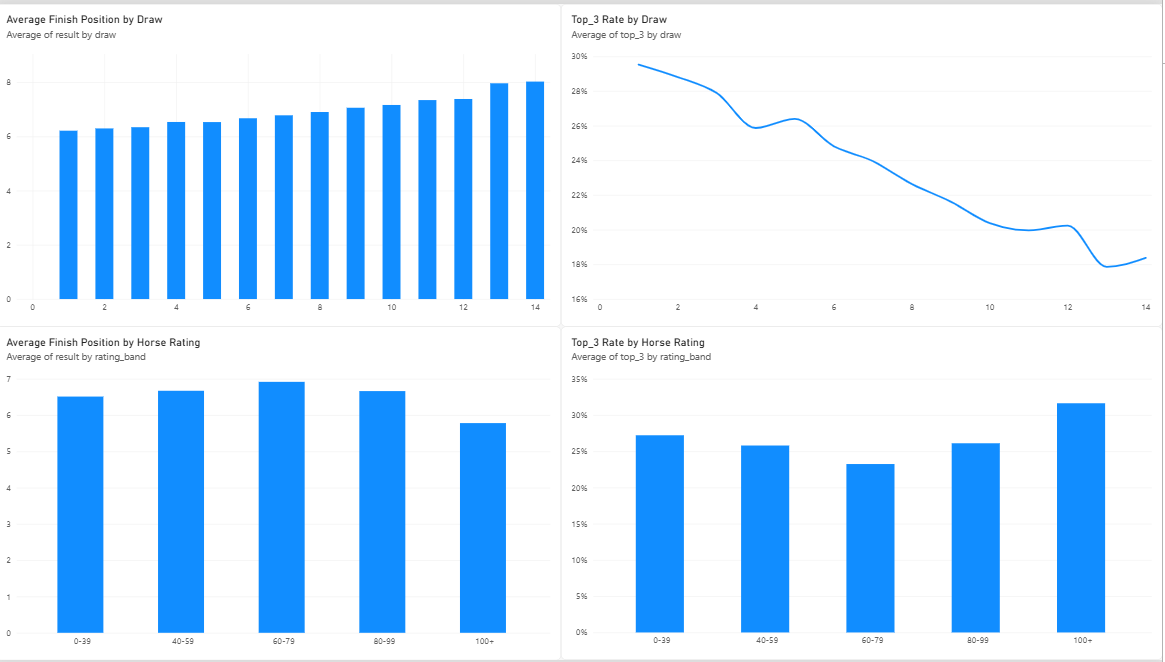

This screenshot's page, from the dashboard's own definition file:
{"tool":"powerbi","page":{"name":"Horse Performance","canvas":[1920,1080],"ordinal":1},"visuals":[{"type":"clusteredColumnChart","title":"Average Finish Position by Draw","fields":{"Category":["powerbi_data.draw"],"Y":["Avg(powerbi_data.result)"]},"box":[0,0,930.4,531],"z":0},{"type":"lineChart","title":"Top_3 Rate by Draw","fields":{"Category":["powerbi_data.draw"],"Y":["Avg(powerbi_data.top_3)"]},"box":[930.4,0,990,531],"z":1000},{"type":"clusteredColumnChart","title":"Average Finish Position by Horse Rating","fields":{"Category":["powerbi_data.rating_band"],"Y":["Avg(powerbi_data.result)"]},"box":[0,531,930.4,549.6],"z":2000},{"type":"clusteredColumnChart","title":"Top_3 Rate by Horse Rating","fields":{"Category":["powerbi_data.rating_band"],"Y":["Avg(powerbi_data.top_3)"]},"box":[930,531,990,549],"z":3000}]}

Visuals, with their boxes in screenshot pixels (x1, y1, x2, y2), scaled from the page's 1920x1080 canvas onto the 1165x662 screenshot:
"Average Finish Position by Draw" clusteredColumnChart: <region>0, 0, 565, 325</region>
"Top_3 Rate by Draw" lineChart: <region>565, 0, 1164, 325</region>
"Average Finish Position by Horse Rating" clusteredColumnChart: <region>0, 325, 565, 661</region>
"Top_3 Rate by Horse Rating" clusteredColumnChart: <region>564, 325, 1164, 661</region>
